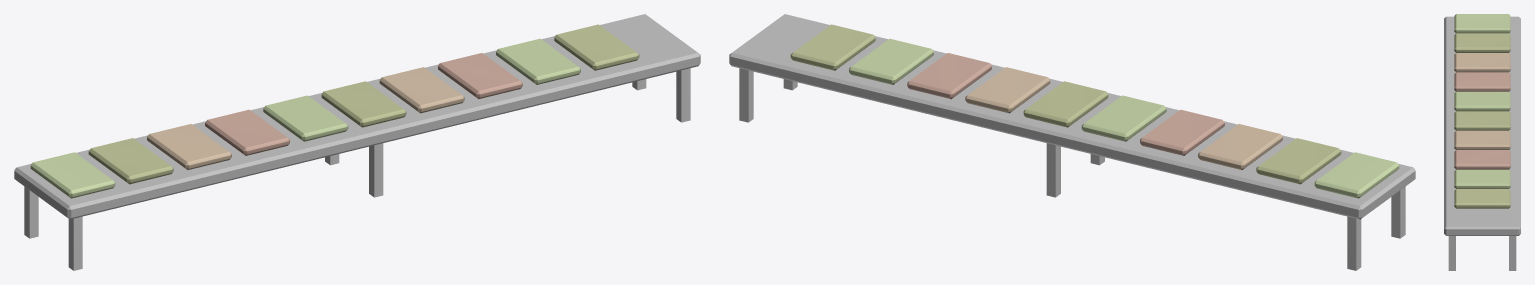
File: drying_bed_back.glb
3 renders of one model, left to right at view 1: azimuth 30°, elevation 25°; view 2: azimuth 150°, elevation 25°; view 3: azimuth 270°, elevation 25°, orthographic. The views are drawn at different scales.
Parts seen in each view (by area): view 1: drying_bed; view 2: drying_bed; view 3: drying_bed.
Part boxes in pixels (left/top/right/bottom): drying_bed: left=14, top=14, right=700, bottom=270; drying_bed: left=729, top=14, right=1415, bottom=270; drying_bed: left=1444, top=14, right=1520, bottom=270.
Bounding box in the file's own units: 4.9 × 0.56 × 0.75.
